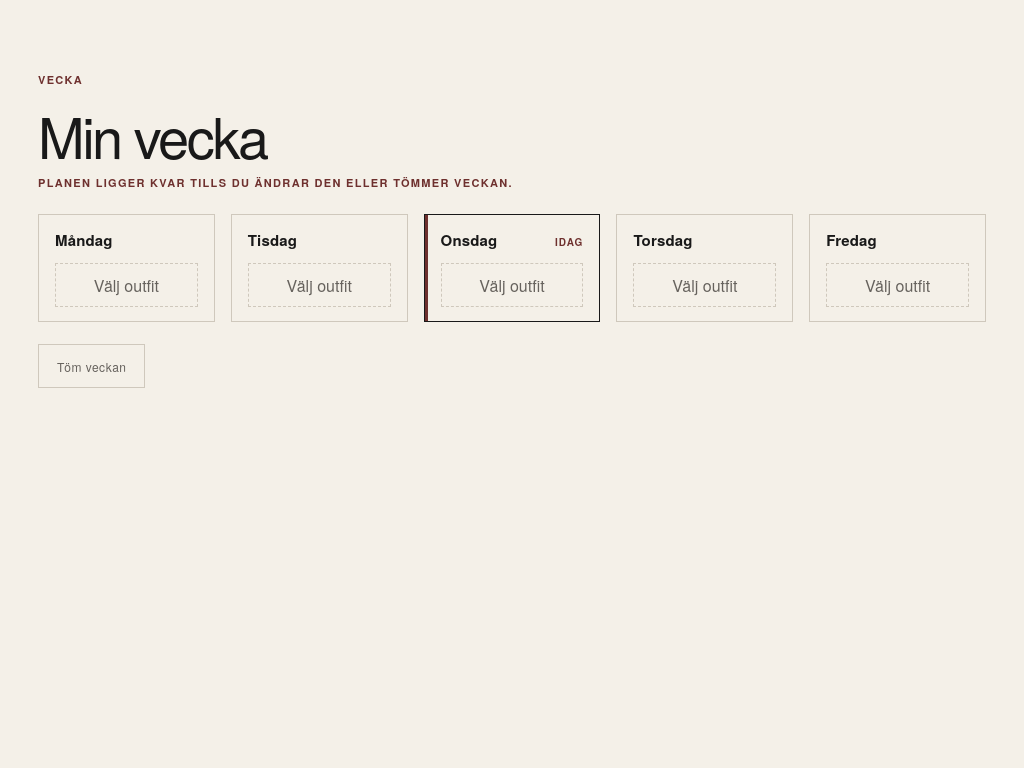
Test case: WeekPlanner › preserves the confirmed plan when a mutation fails
What coordinates should you click on to do the following:
click the button with aria-label "Välj outfit för Måndag"
I would click on:
 (126, 285)
Its box is x1=55 y1=263 x2=198 y2=307.
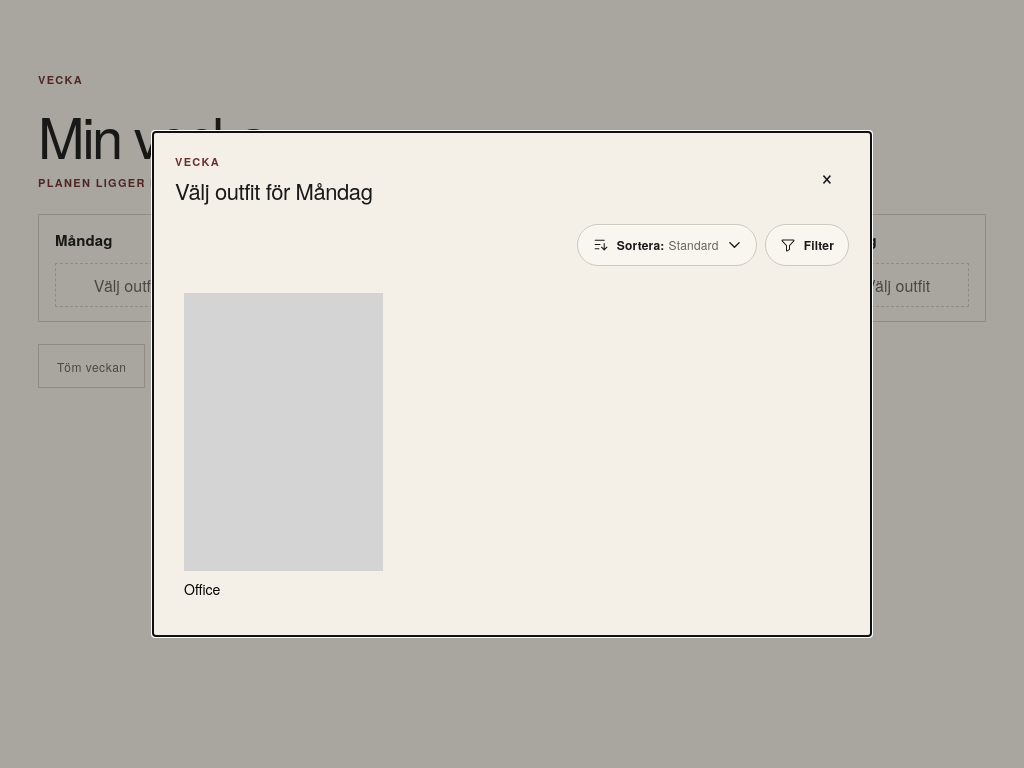
What coordinates should you click on to do the following:
click the button with aria-label "Välj Office för Måndag"
I would click on:
 (283, 446)
Its box is x1=175 y1=284 x2=392 y2=608.
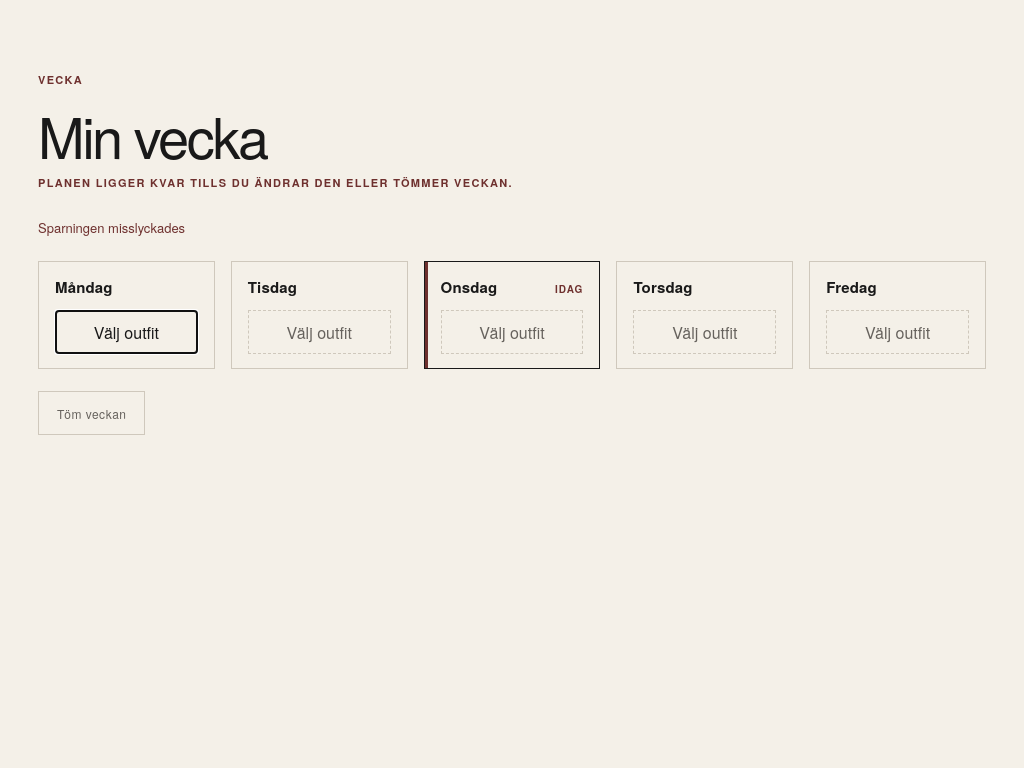
Expected: the button with aria-label "Välj outfit för Måndag" is shown, x1=55 y1=310 x2=198 y2=354
Expected: the message reads "Sparningen misslyckades", x1=38 y1=218 x2=185 y2=237
